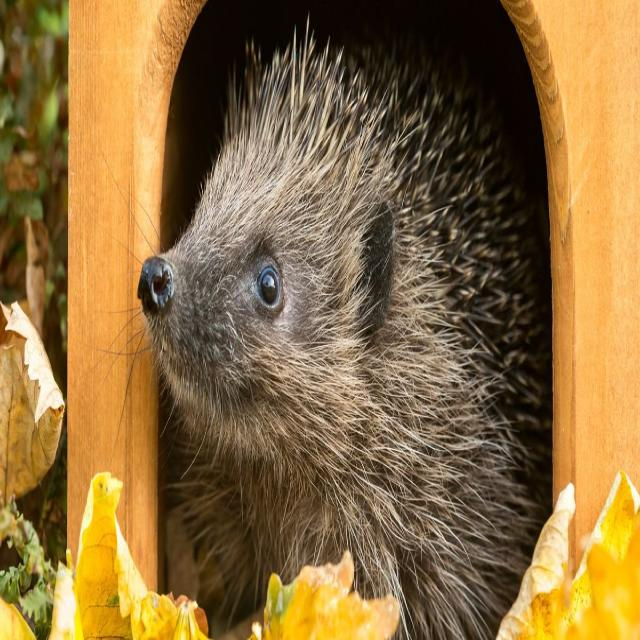Hedgehog: (136, 26, 532, 638)
